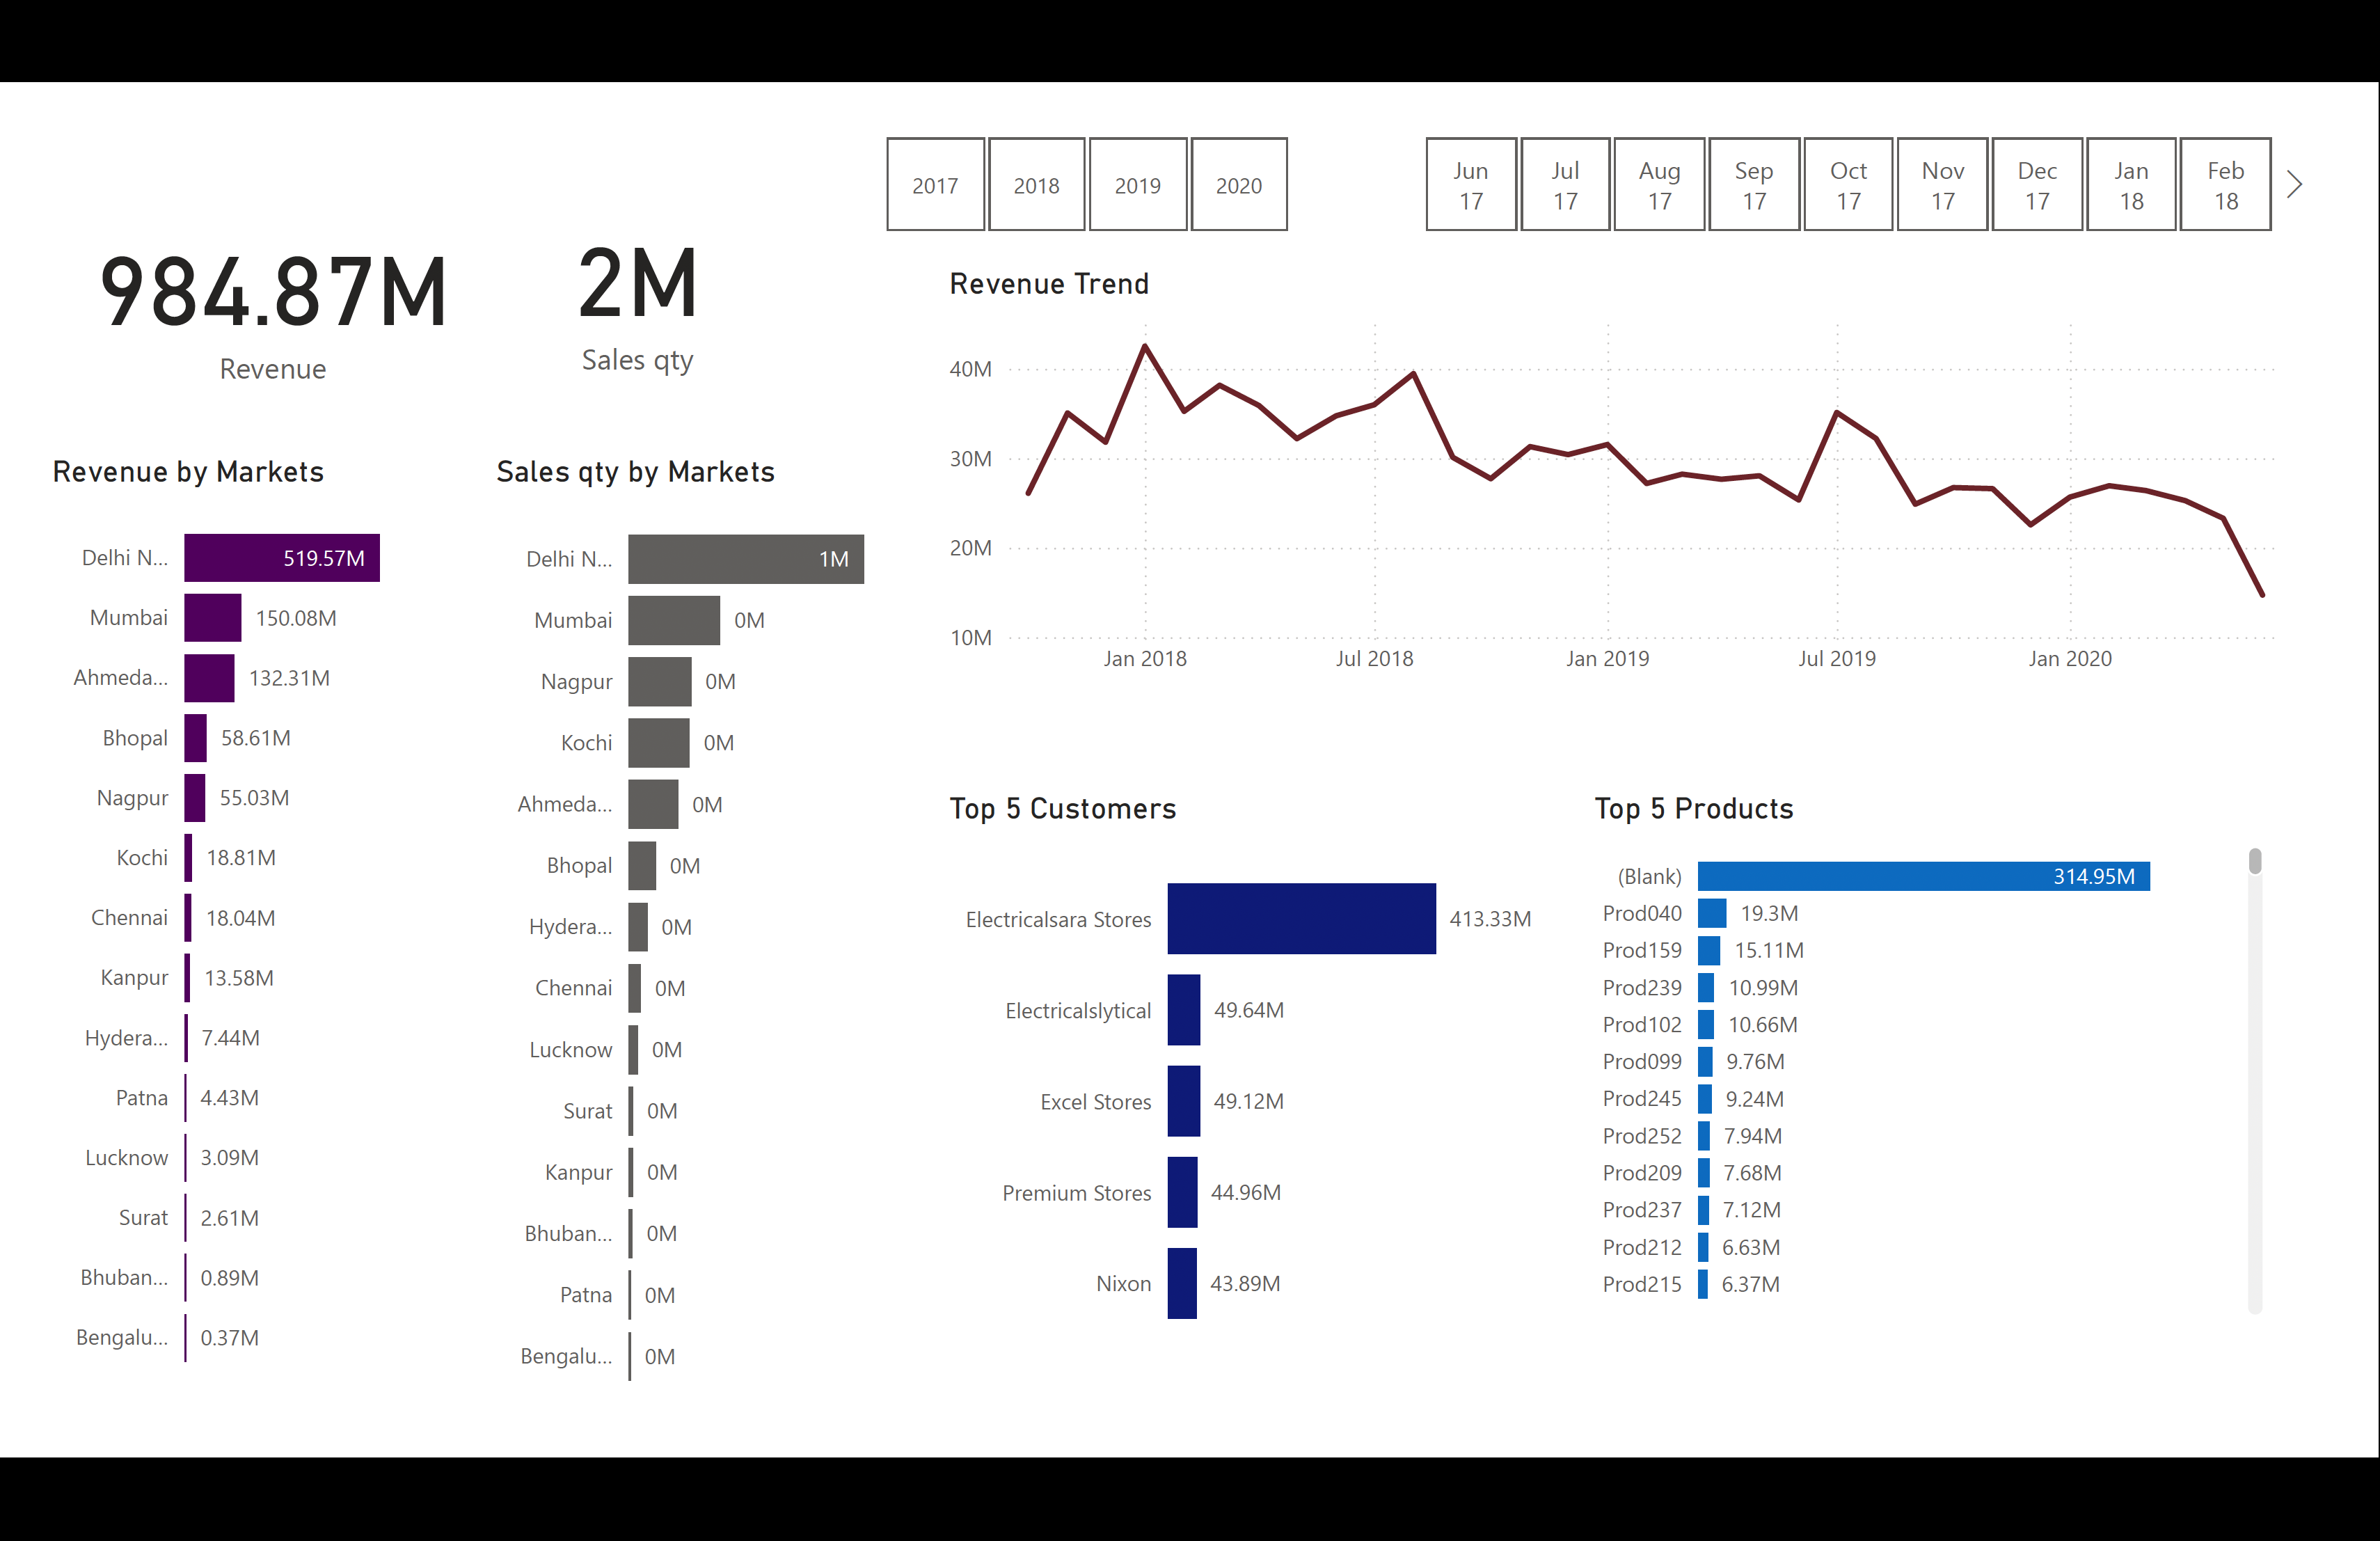

This screenshot's page, from the dashboard's own definition file:
{"tool":"powerbi","page":{"name":"Page 1","canvas":[1280,720],"ordinal":0},"visuals":[{"type":"card","fields":{"Values":["BaseMeasures.Revenue"]},"box":[0,0,219.6,172.9],"z":0},{"type":"card","fields":{"Values":["BaseMeasures.Revenue"]},"box":[9.6,9.6,237.4,172.9],"z":1000},{"type":"card","fields":{"Values":["BaseMeasures.Sales qty"]},"box":[229.2,0,205.8,182.5],"z":2000},{"type":"barChart","title":"Revenue by Markets","fields":{"Y":["BaseMeasures.Revenue"],"Category":["sales markets.markets_name"]},"box":[0,182.5,237.4,526.9],"z":3000},{"type":"barChart","title":"Sales qty by Markets","fields":{"Y":["BaseMeasures.Sales qty"],"Category":["sales markets.markets_name"]},"box":[247.5,182.5,237.5,537.5],"z":4000},{"type":"slicer","fields":{"Values":["sales date.year"]},"box":[445,0,273.8,66.2],"z":5000},{"type":"slicer","fields":{"Values":["sales date.cy_date"]},"box":[746.2,0,521.2,66.2],"z":6000},{"type":"barChart","title":"Top 5 Customers","fields":{"Y":["BaseMeasures.Revenue"],"Category":["sales customers.custmer_name"]},"box":[501.2,371.2,337.5,321.2],"z":7000},{"type":"barChart","title":"Top 5 Products","fields":{"Y":["BaseMeasures.Revenue"],"Category":["sales products.product_code"]},"box":[861.2,371.2,382.5,297.5],"z":8000},{"type":"lineChart","title":"Revenue Trend","fields":{"Y":["BaseMeasures.Revenue"],"Category":["sales date.cy_date.Variation.Date Hierarchy.Year","sales date.cy_date.Variation.Date Hierarchy.Quarter","sales date.cy_date.Variation.Date Hierarchy.Month","sales date.cy_date.Variation.Date Hierarchy.Day"]},"box":[501.2,77.5,766.2,238.8],"z":8001}]}

Visuals, with their boxes on the page's 1280x720 design canvas (x1, y1, x2, y2). These are canvas units, not pixel positions in the 2380x1541 screenshot, which may show the page scaled, cropped or inside an application window:
card - BaseMeasures.Revenue: 0 0 220 173
card - BaseMeasures.Revenue: 10 10 247 182
card - BaseMeasures.Sales qty: 229 0 435 182
"Revenue by Markets" barChart: 0 182 237 709
"Sales qty by Markets" barChart: 248 182 485 720
slicer - sales date.year: 445 0 719 66
slicer - sales date.cy_date: 746 0 1267 66
"Top 5 Customers" barChart: 501 371 839 692
"Top 5 Products" barChart: 861 371 1244 669
"Revenue Trend" lineChart: 501 78 1267 316
